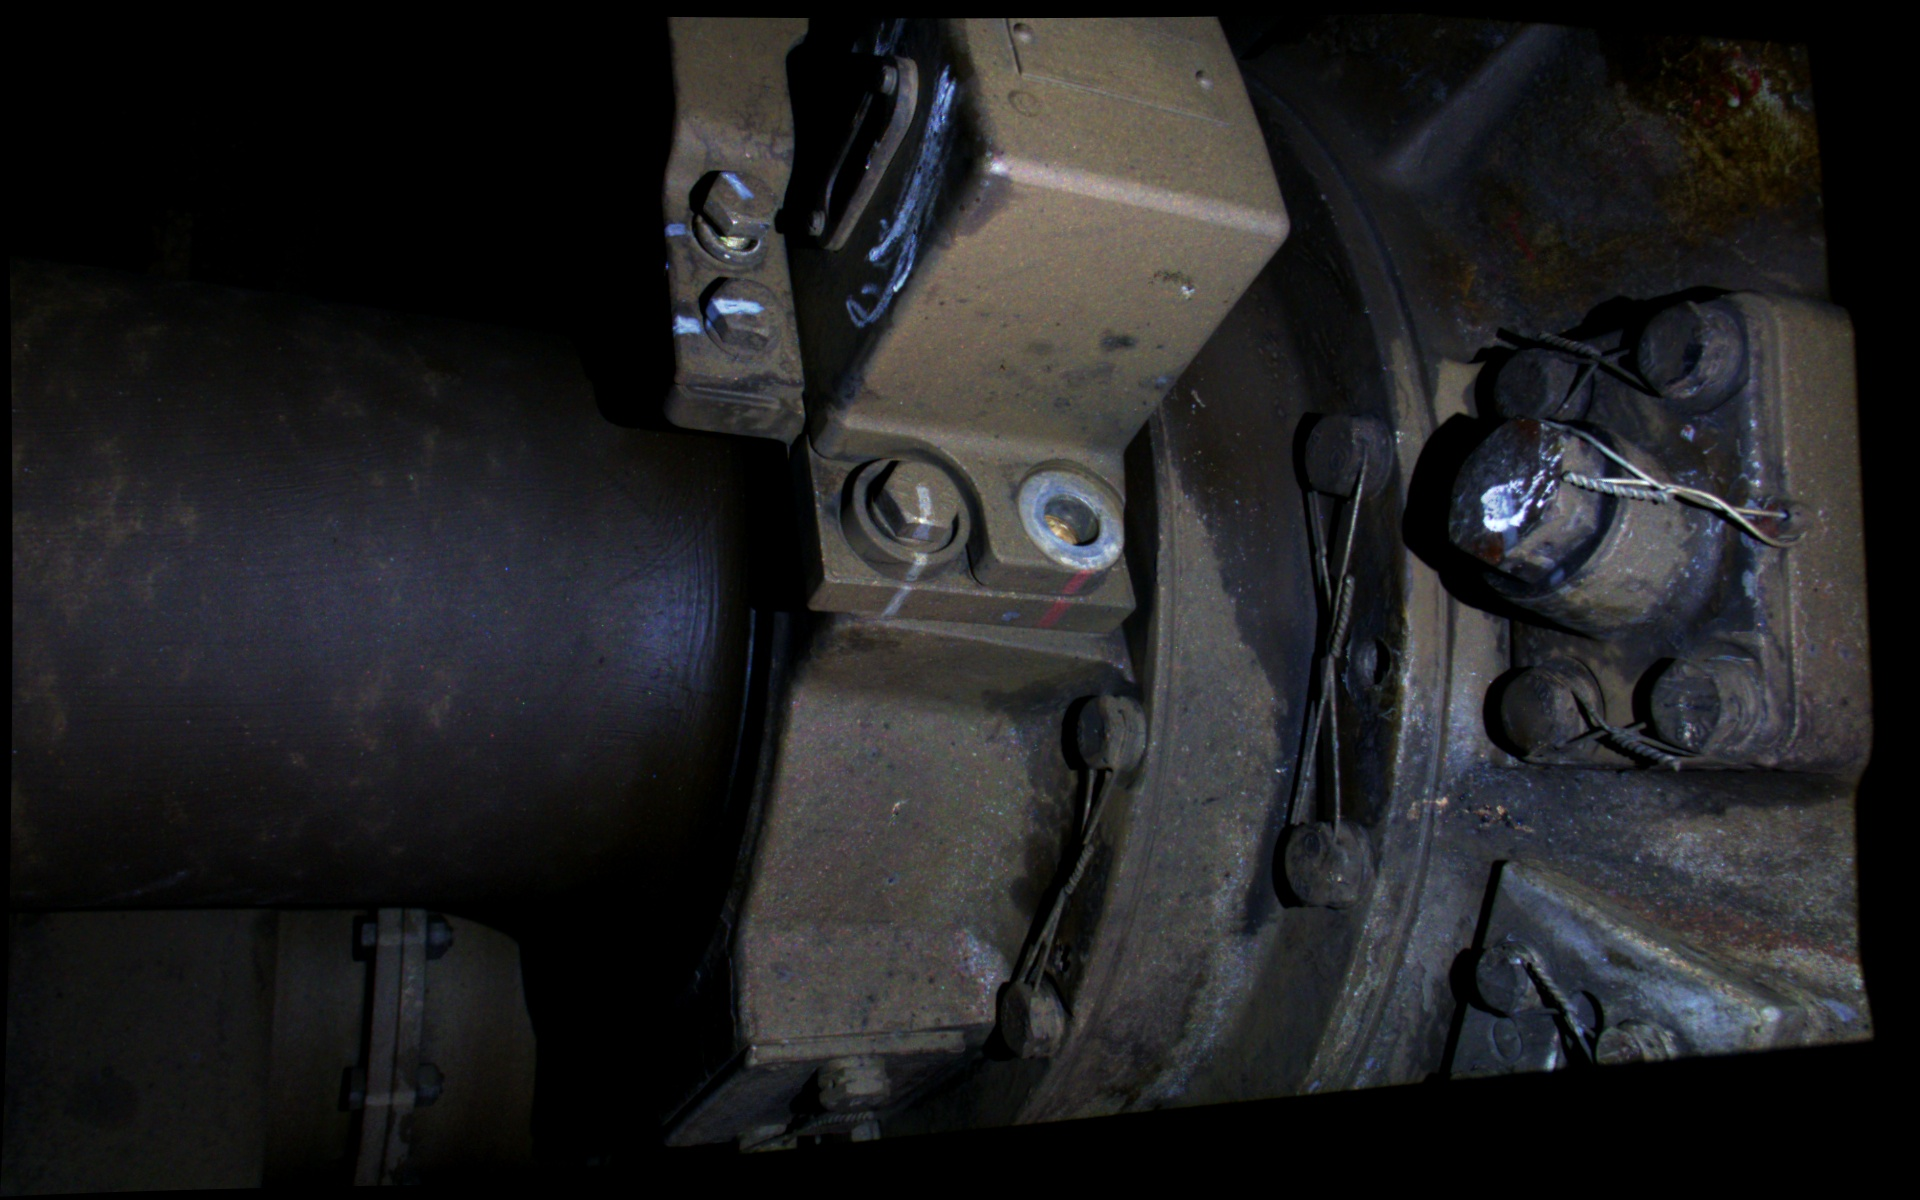bolthead1: (693, 170, 777, 261)
bolthead2: (697, 278, 784, 350)
bolthead3: (867, 458, 968, 550)
bolthead4: (1033, 476, 1116, 564)
